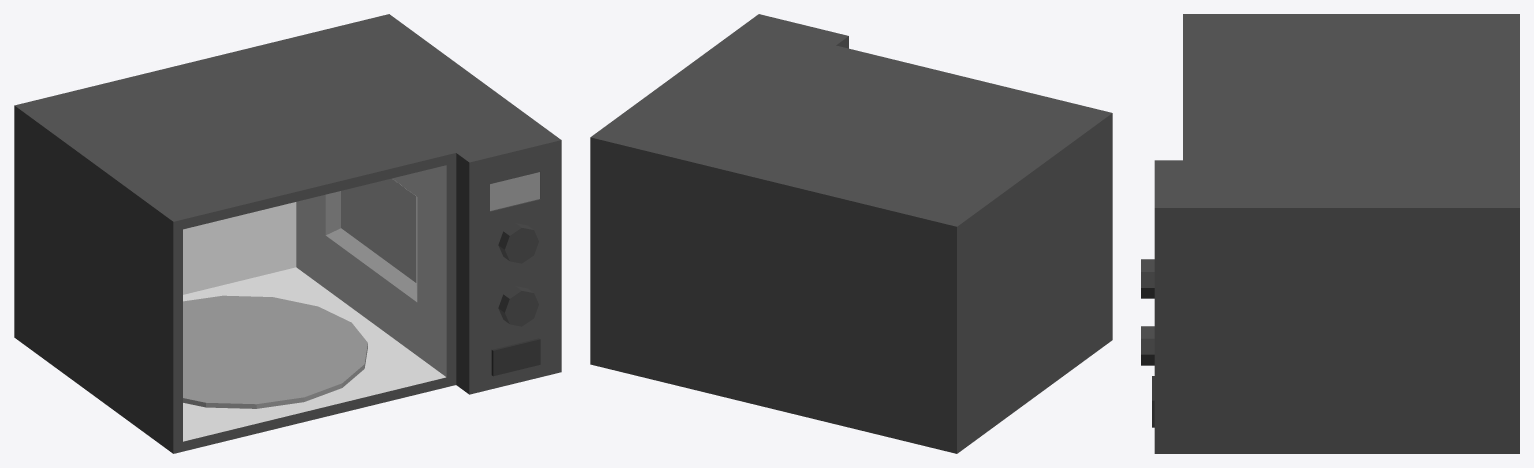
File: Microwave_C2_01.fbx
3 renders of one model, left to right at view 1: azimuth 30°, elevation 25°; view 2: azimuth 150°, elevation 25°; view 3: azimuth 270°, elevation 25°, orthographic. The views are drawn at different scales.
Parts seen in each view (by area): view 1: Microwave_C2_01; view 2: Microwave_C2_01; view 3: Microwave_C2_01.
Boxes of the visible parts, x1=… form: Microwave_C2_01: x1=14, y1=14, x2=561, y2=453; Microwave_C2_01: x1=590, y1=14, x2=1112, y2=453; Microwave_C2_01: x1=1141, y1=14, x2=1519, y2=453.
Size of the model in its own units: 49 by 29 by 40.47.
